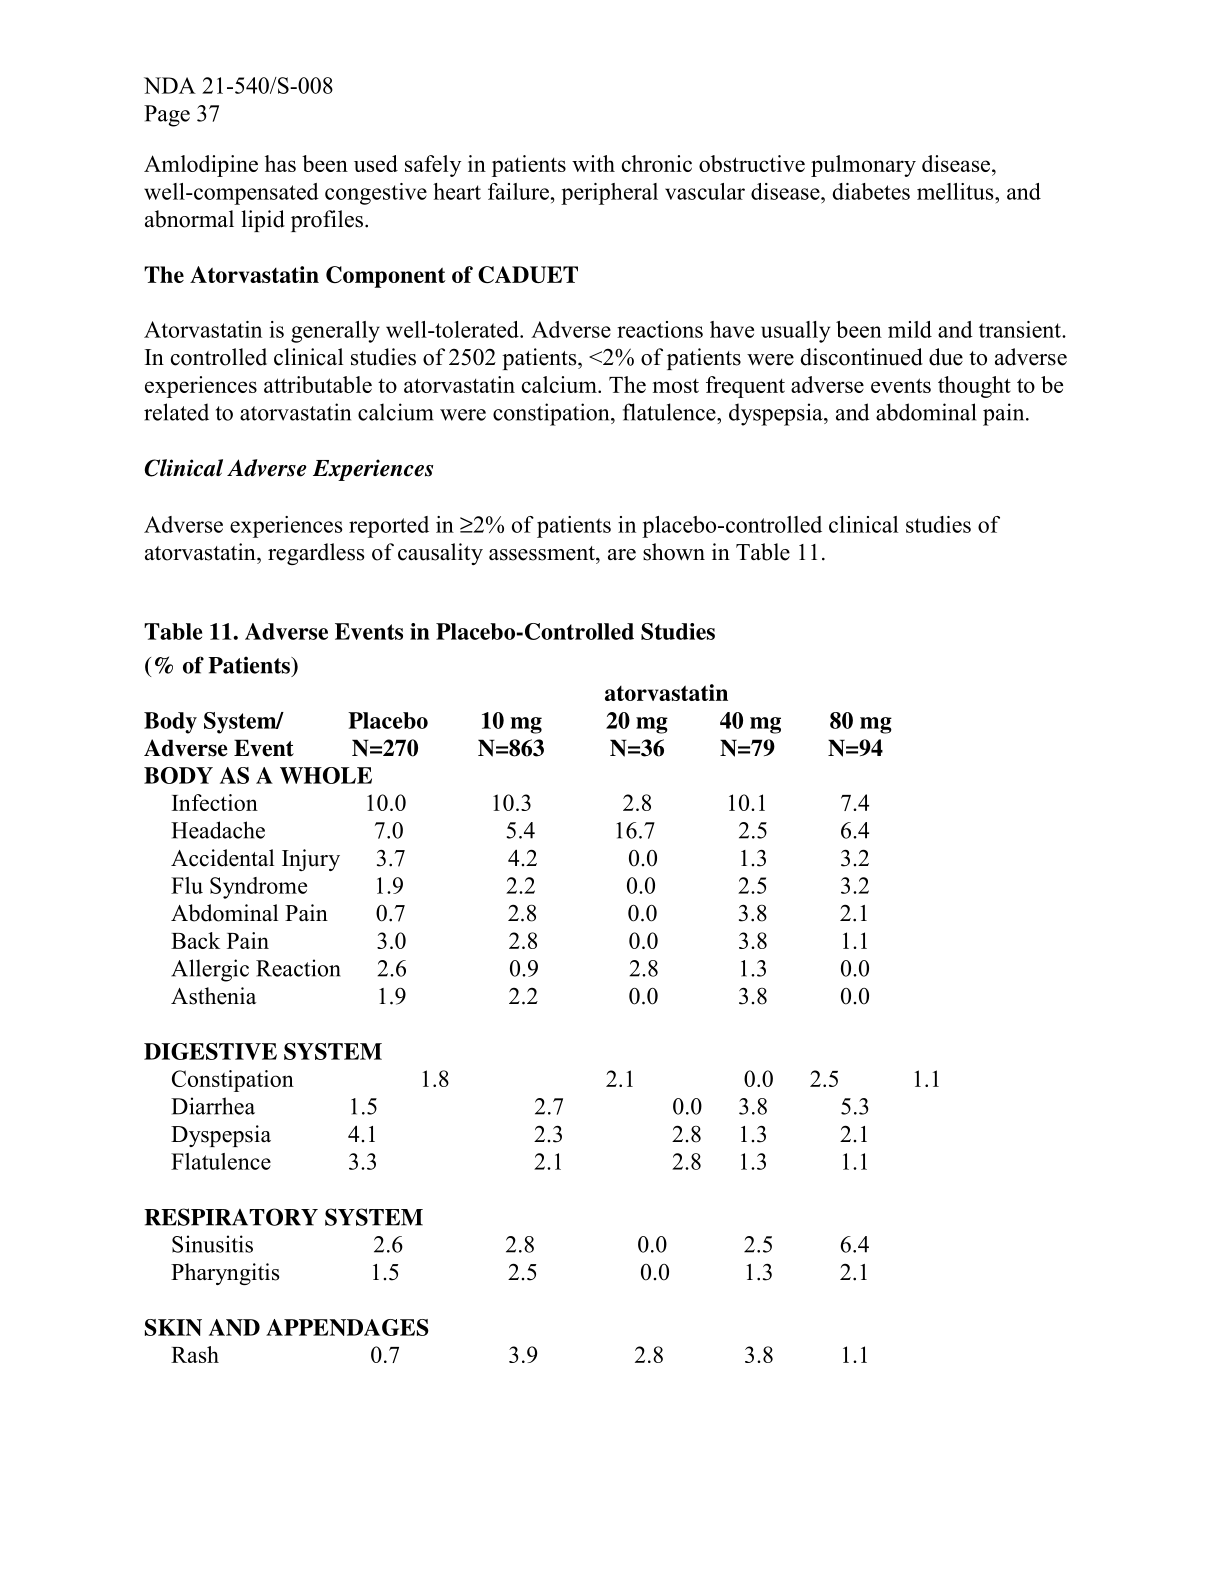nolines: (141, 685, 948, 1367)
